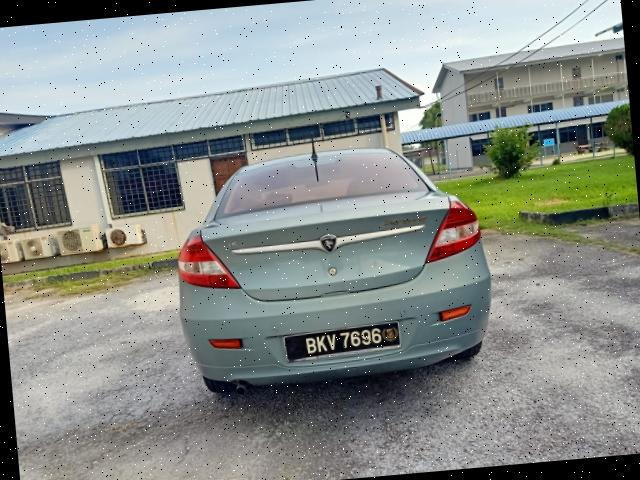License_Plate: (296, 326, 397, 358)
car: (163, 133, 504, 396)
